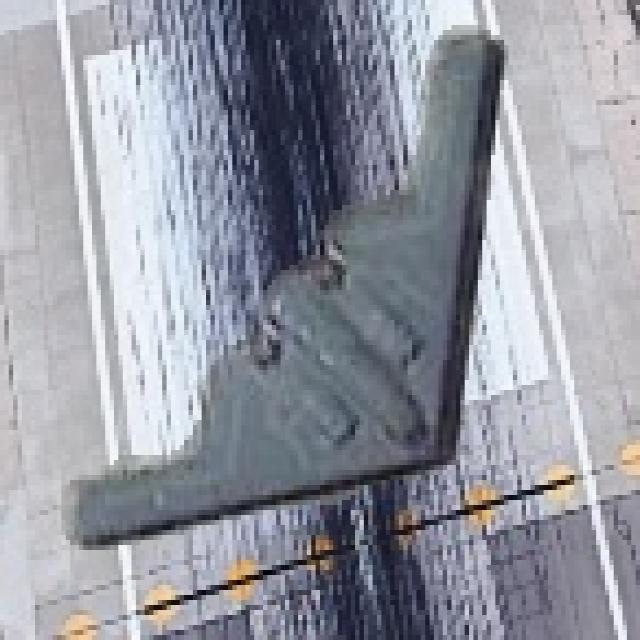B-2_TopDown: (57, 15, 508, 550)
